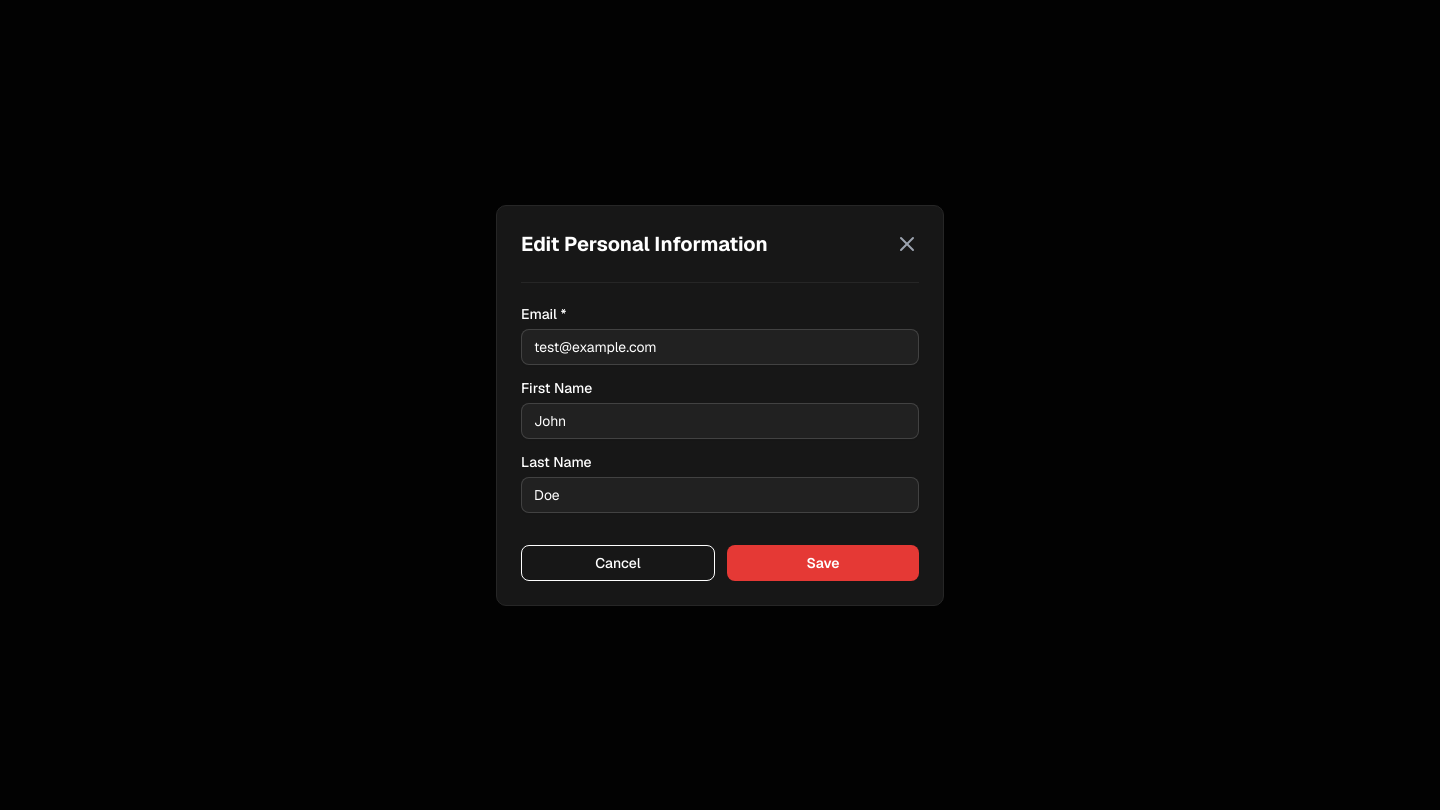
EditUserModal › form submission › displays error message on submission failure
Click the button "Save".
click(823, 562)  # box x1=727 y1=544 x2=919 y2=580
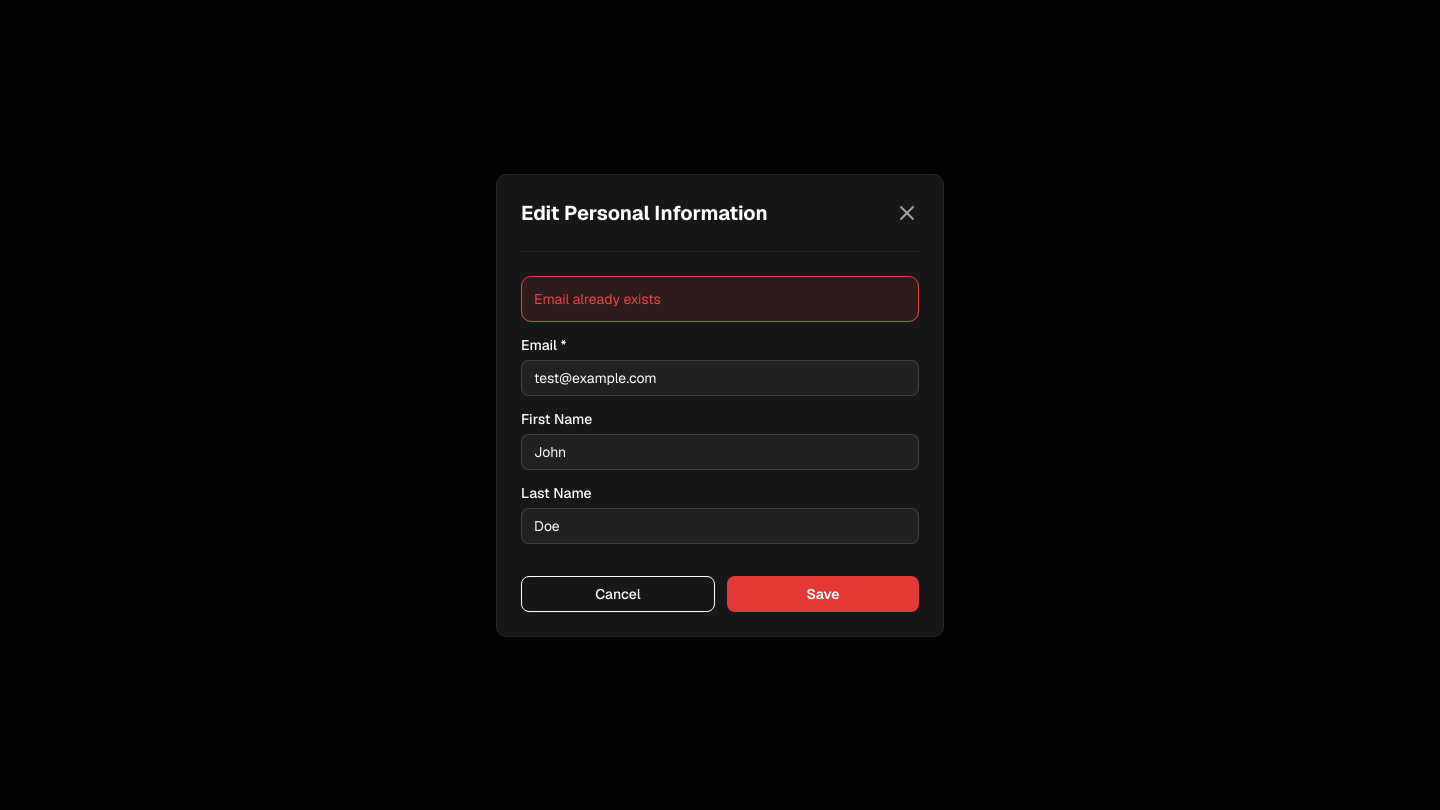
expect the text "Email already exists" is shown: met, box x1=521 y1=276 x2=919 y2=322
